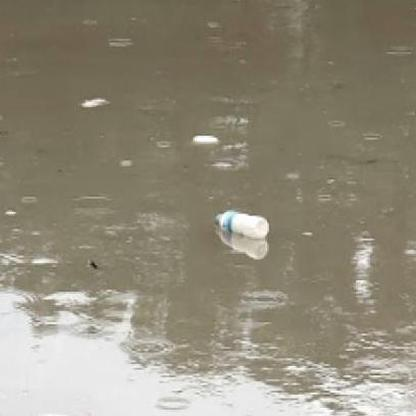plastic bottle: (215, 211, 270, 238)
